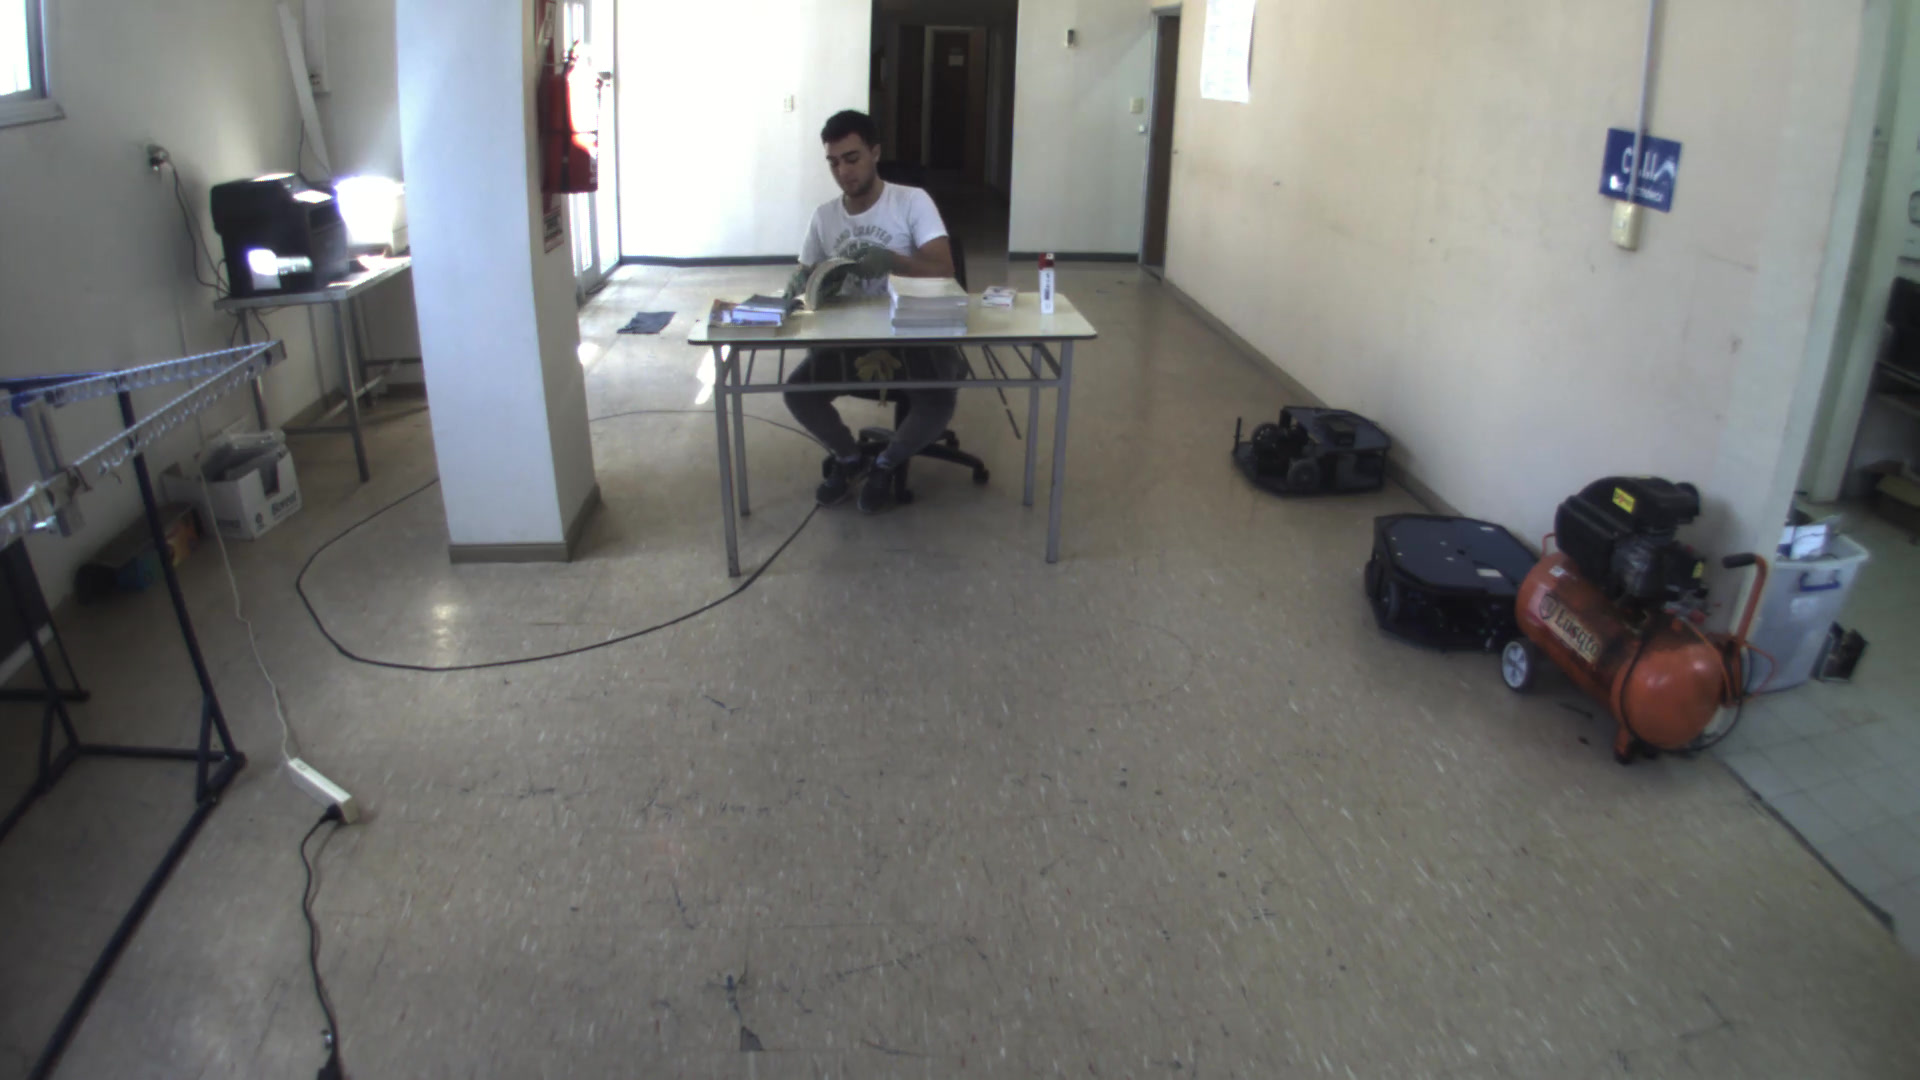hand: (845, 237, 899, 284), (782, 260, 818, 297)
